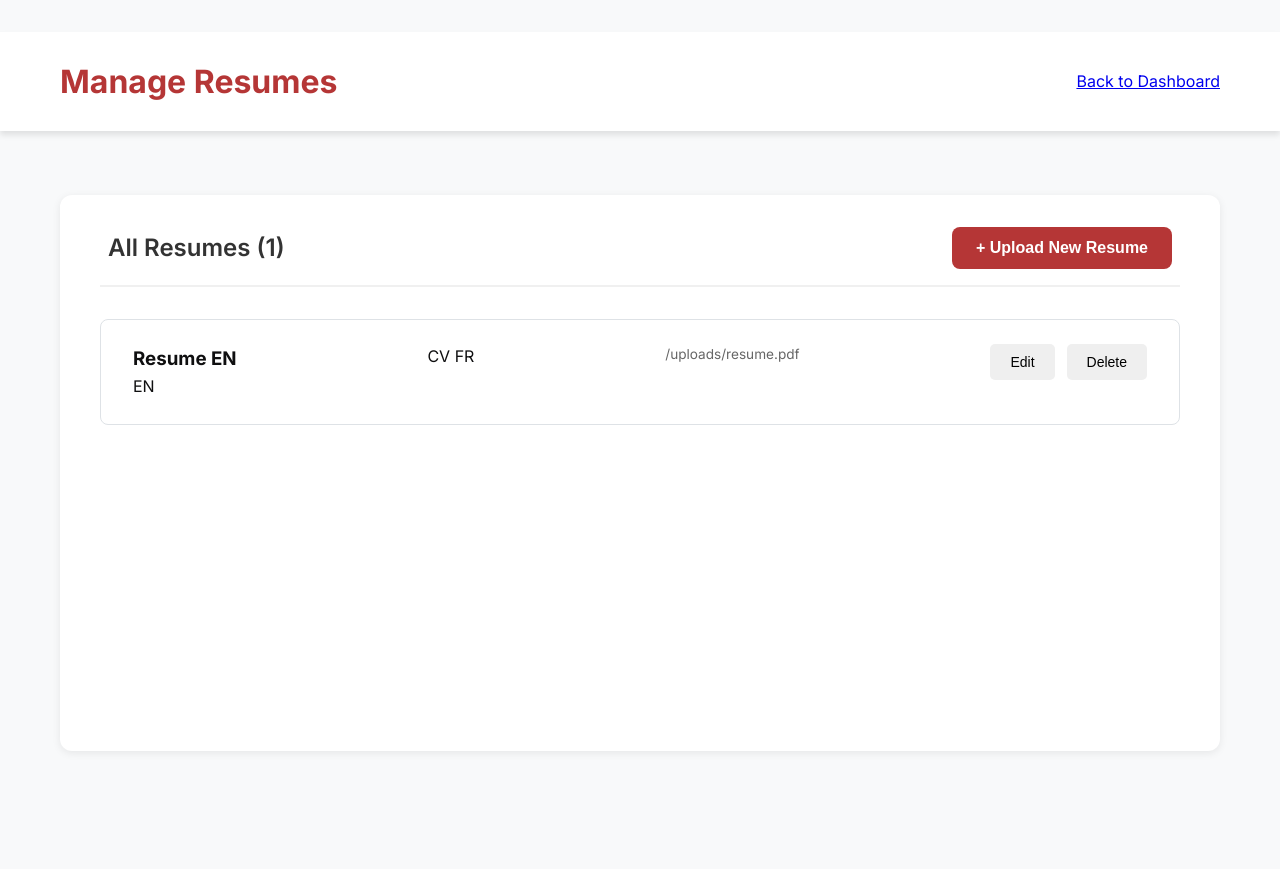
Test: AdminResumes › shows upload form
The image size is (1280, 869).
Click the button "+ Upload New Resume" at (1062, 248), box [952,227,1172,269]
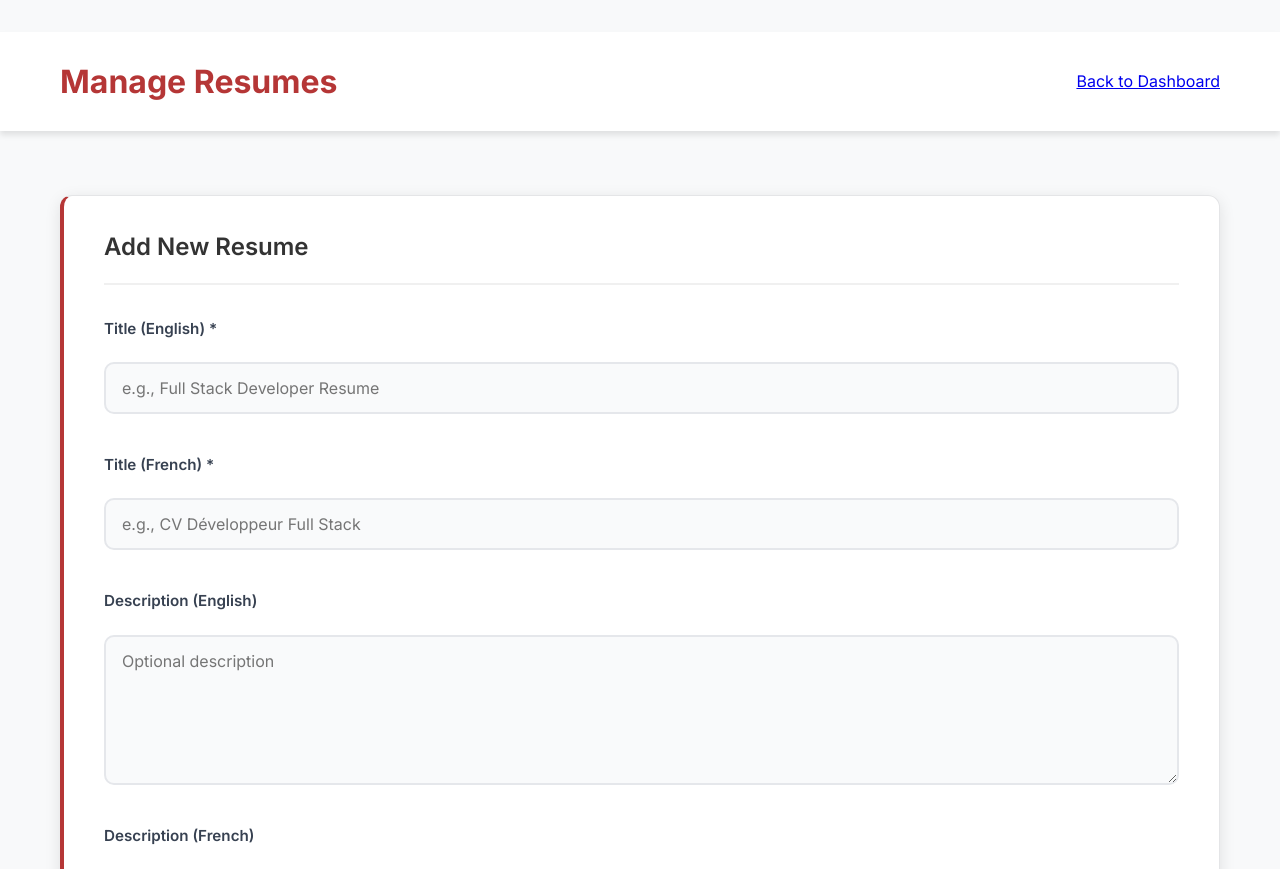
Expected: the heading "Add New Resume" is shown, [104,228,1179,285]
